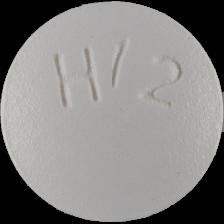43547-268: (0, 0, 224, 224)
